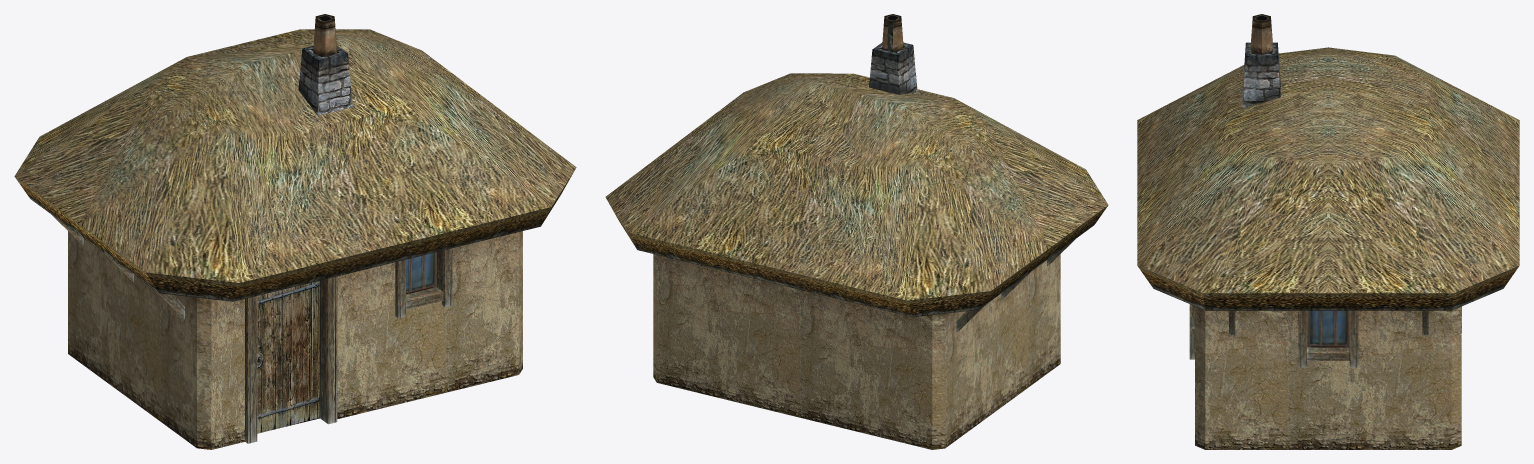
Rendered from mhouse8.glb.
3 renders of one model, left to right at view 1: azimuth 30°, elevation 25°; view 2: azimuth 150°, elevation 25°; view 3: azimuth 270°, elevation 25°, orthographic. The views are drawn at different scales.
Visible parts, largest first — view 1: mhouse8-col; view 2: mhouse8-col; view 3: mhouse8-col.
Part boxes in pixels (left/top/right/bottom): mhouse8-col: left=14, top=14, right=576, bottom=449; mhouse8-col: left=605, top=14, right=1108, bottom=449; mhouse8-col: left=1137, top=14, right=1519, bottom=449.
Size of the model in its own units: 7.14 by 5.85 by 5.74.
Materials: 8 (8 with a texture image).
